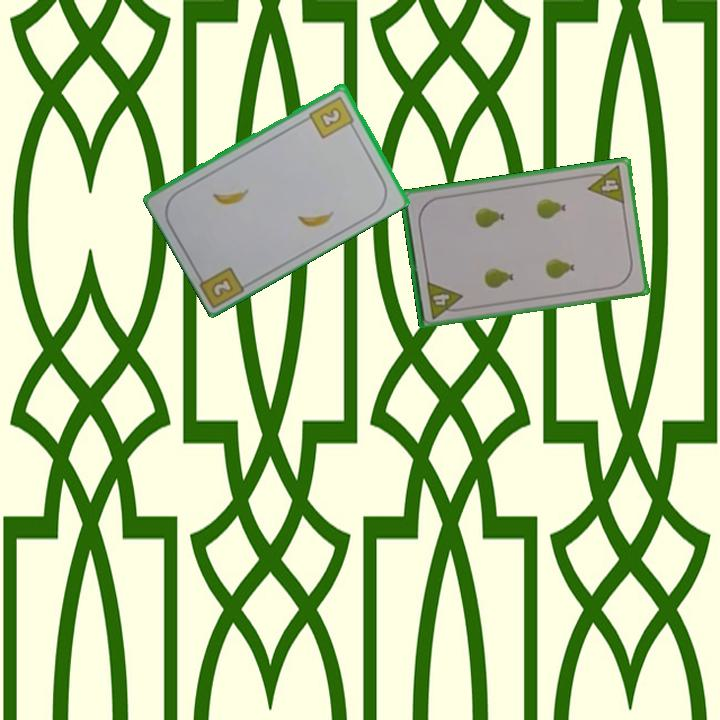2b: (306, 92, 358, 141), (208, 274, 237, 300)
4p: (583, 162, 627, 207), (423, 277, 466, 321)
